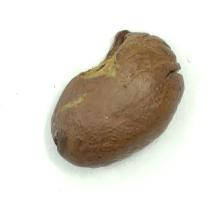NG: (70, 29, 128, 81)
